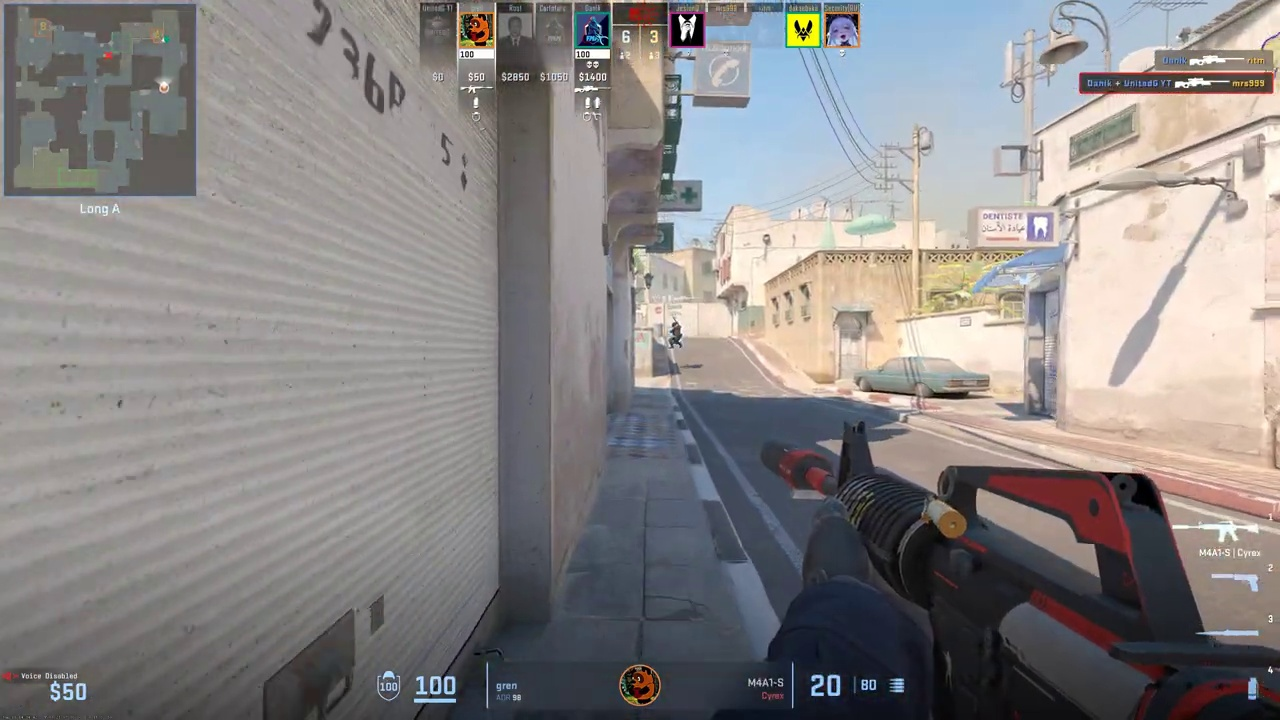CT: (668, 321, 682, 347)
